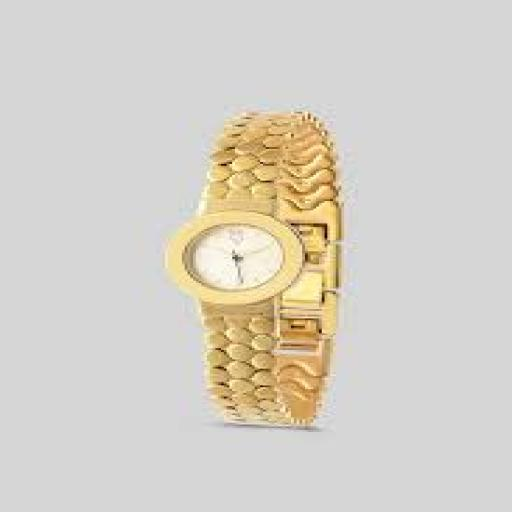KolSaati: (164, 103, 364, 446)
